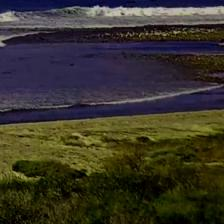surfer: (125, 0, 136, 4), (151, 0, 157, 3)
